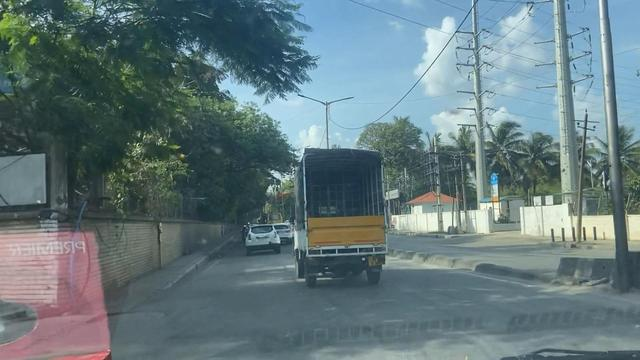HMV: (295, 149, 388, 288)
LMV: (247, 223, 280, 252)
